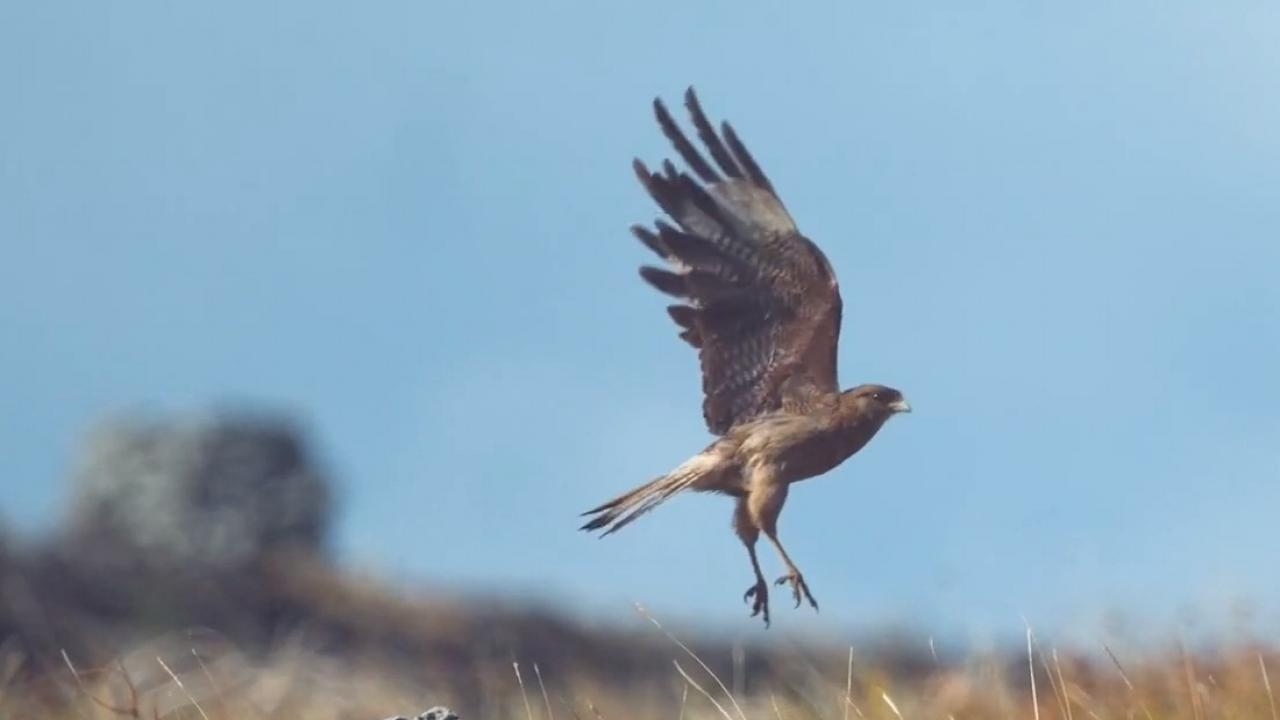Bird: (567, 75, 921, 634)
